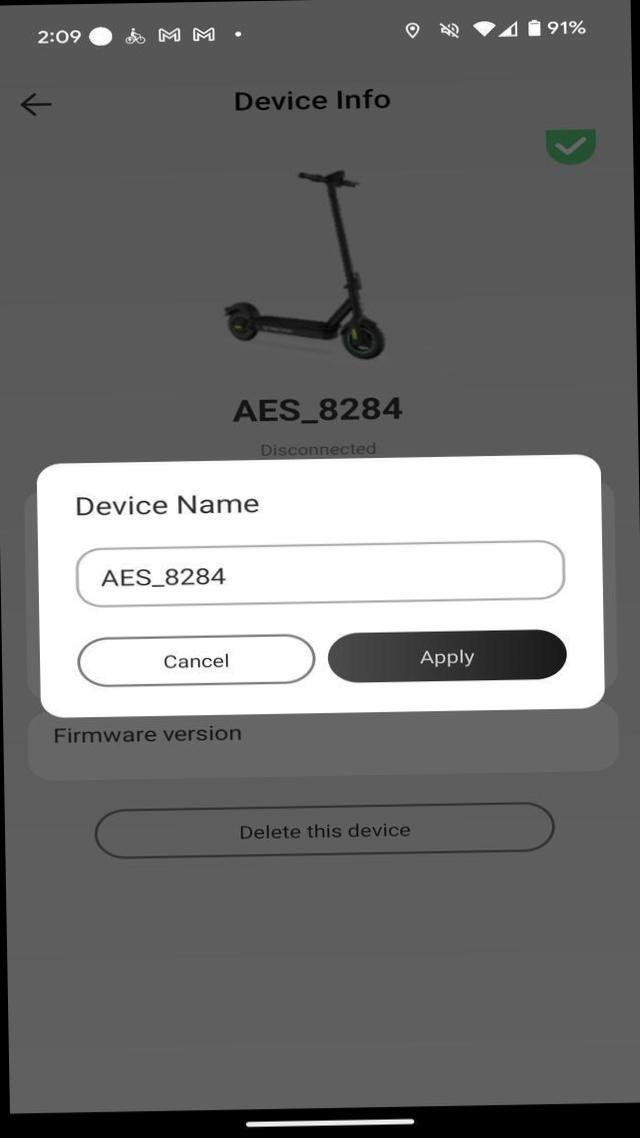Icon: (538, 124, 602, 168), (19, 92, 54, 126), (118, 23, 148, 50), (86, 22, 113, 48), (154, 24, 182, 48), (189, 23, 217, 46), (434, 19, 462, 41), (471, 17, 494, 39), (500, 17, 520, 39), (404, 22, 420, 44), (527, 18, 542, 40), (232, 26, 242, 43)
Image: (204, 159, 456, 370)
Text: (62, 484, 264, 526), (46, 718, 255, 754), (225, 390, 408, 429), (228, 82, 393, 121), (234, 815, 415, 844), (96, 558, 234, 593), (156, 645, 233, 674), (416, 646, 482, 672), (32, 24, 82, 48), (544, 15, 590, 38)
TextButton: (73, 538, 566, 609), (88, 799, 558, 860), (326, 628, 570, 684), (76, 632, 318, 688)
